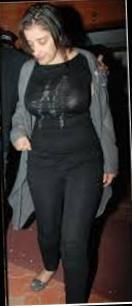Drunk: (25, 28, 56, 64)
